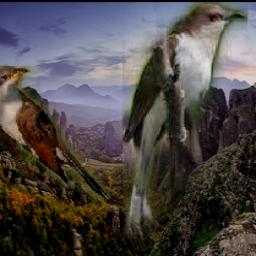Cuckoo: (122, 2, 247, 256), (0, 67, 109, 200)
